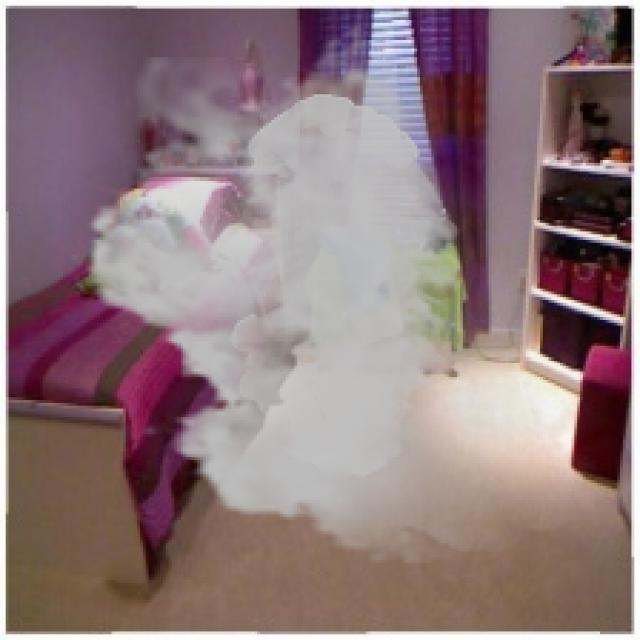Smoke: (66, 23, 614, 563)
